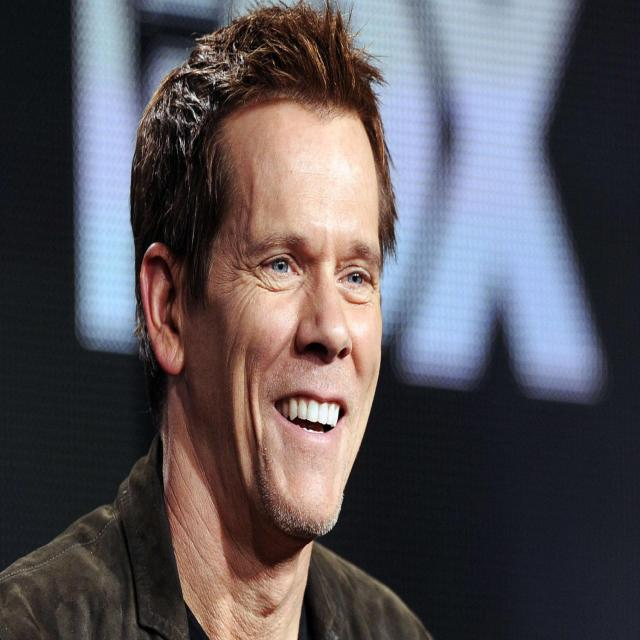no-earmuff: (129, 226, 195, 390)
